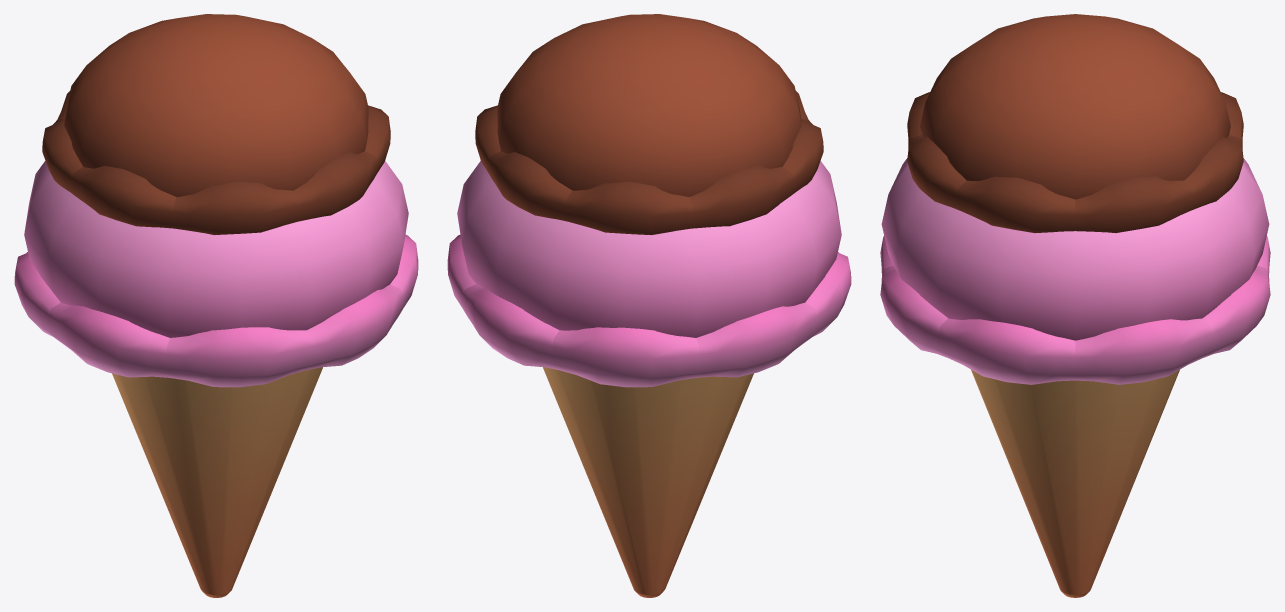
File: Icecream_V3_01.fbx
3 renders of one model, left to right at view 1: azimuth 30°, elevation 25°; view 2: azimuth 150°, elevation 25°; view 3: azimuth 270°, elevation 25°, orthographic.
Parts seen in each view (by area): view 1: Icecream_V3_01; view 2: Icecream_V3_01; view 3: Icecream_V3_01.
Part boxes in pixels (x1,y1,x2,y2): Icecream_V3_01: [14, 14, 418, 597]; Icecream_V3_01: [447, 14, 851, 597]; Icecream_V3_01: [880, 14, 1270, 597].
Size of the model in its own units: 31.28 by 49.57 by 31.28.
